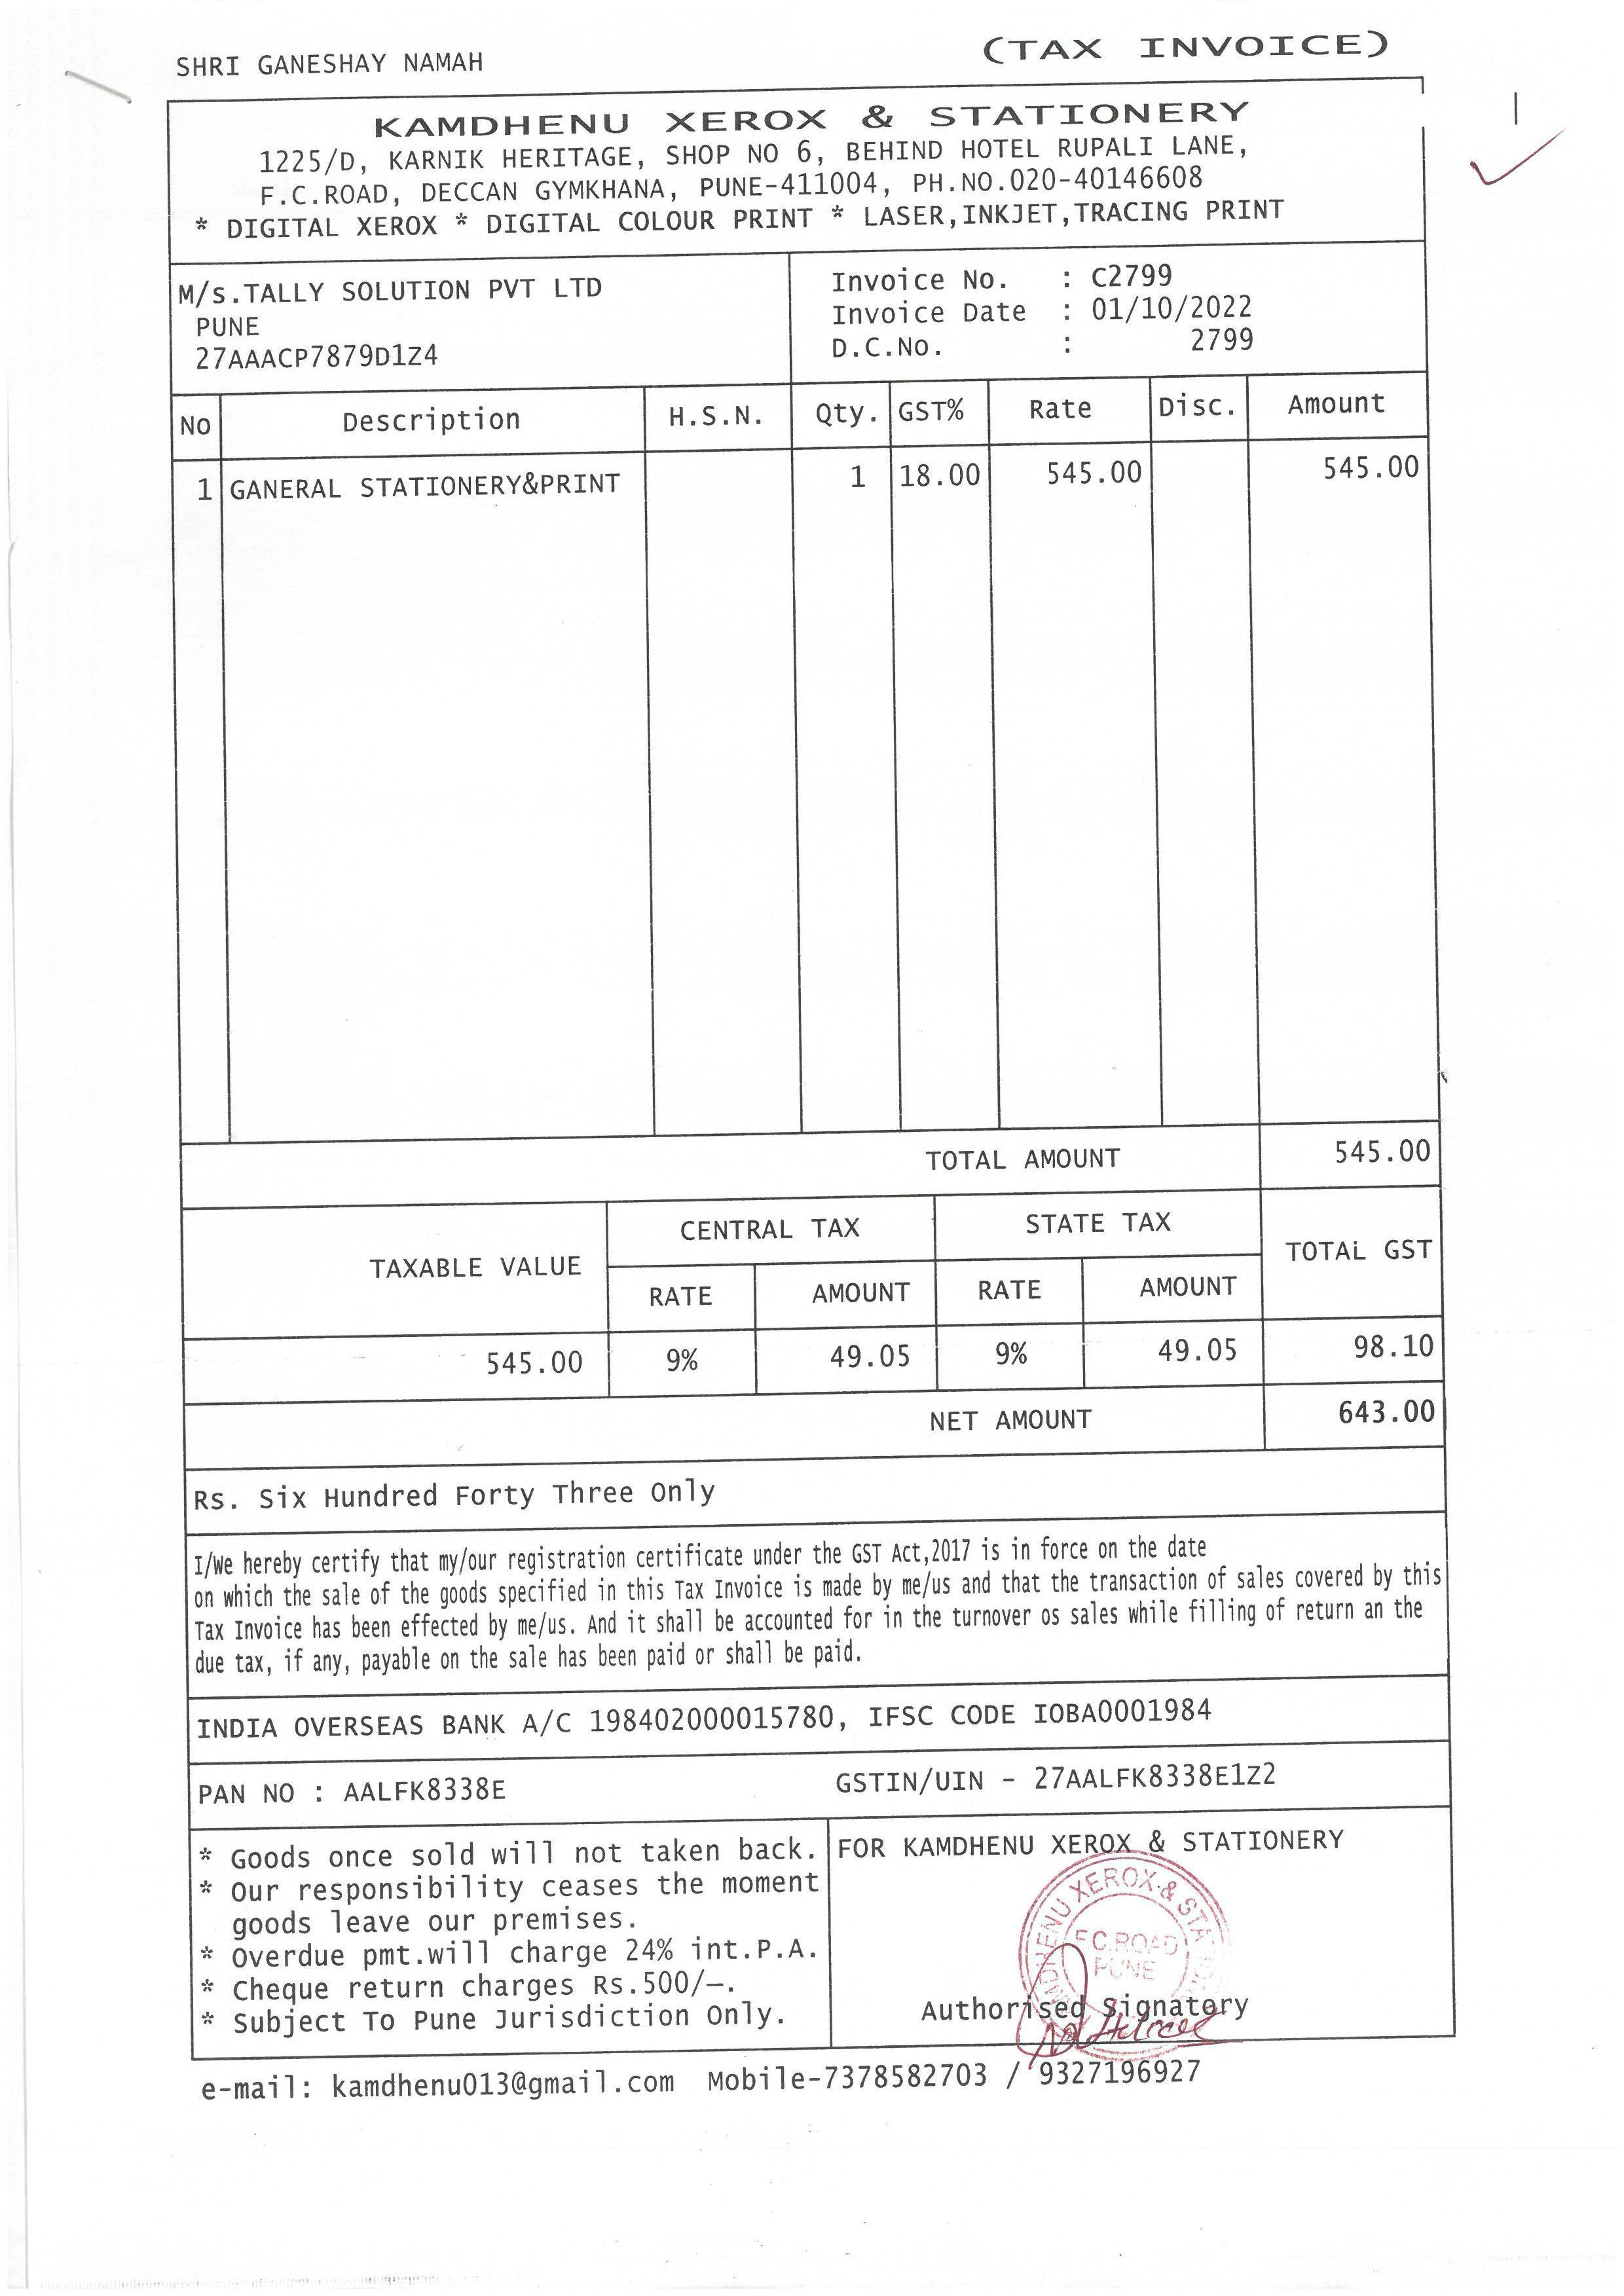InvoiceDate: (1090, 290, 1262, 325)
InvoiceNumber: (1077, 251, 1186, 299)
TotalAmount: (1329, 1395, 1436, 1428)
